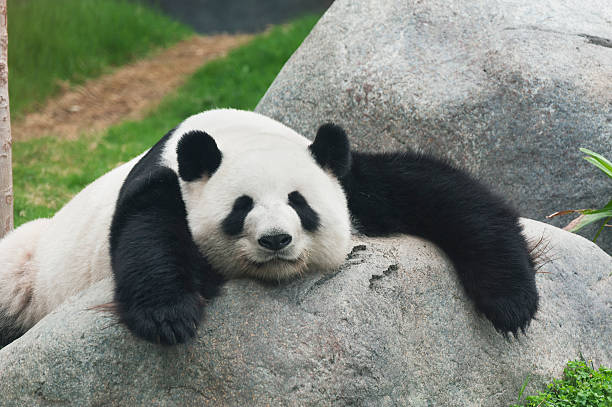panda: (159, 98, 366, 296)
